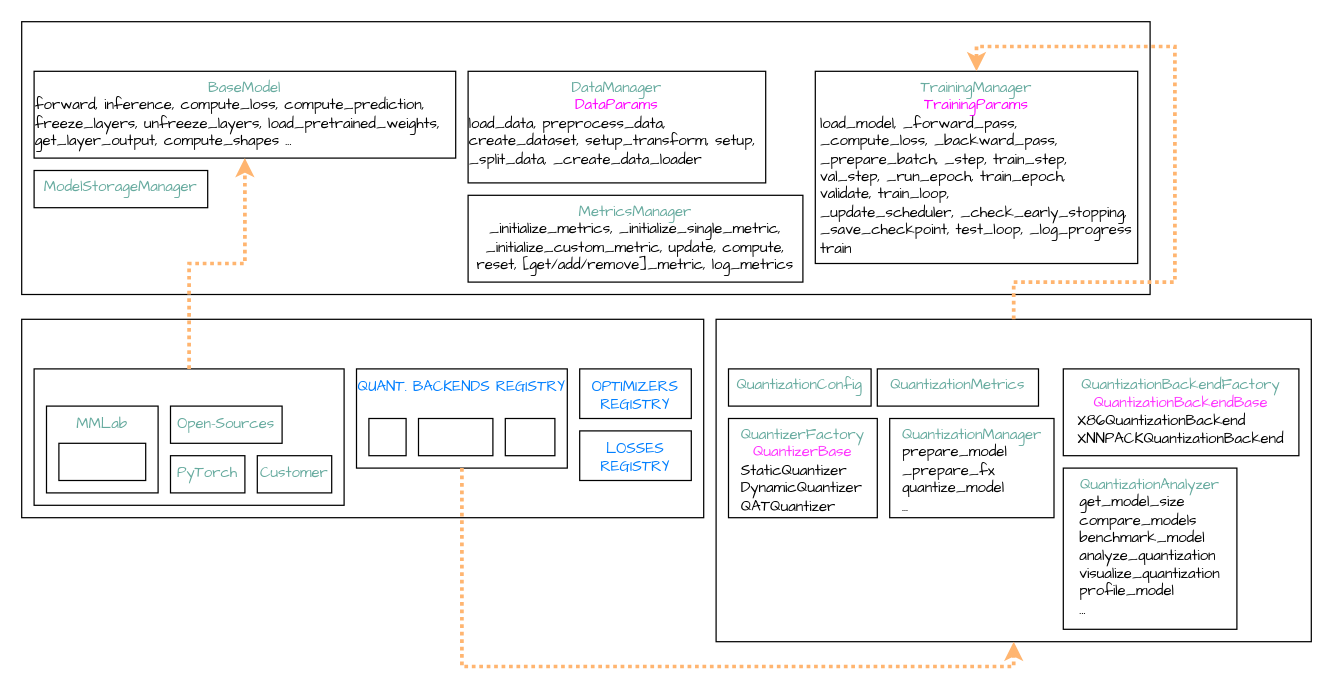
This 1333x699 diagram has some shape labels left out. The box of each missing label's shape, as (x1, y1, x2, y2) in pixels:
MMYOLO: (58, 442, 146, 480)
MODELS REGISTRY: (33, 368, 344, 505)
QUANT. MANAGER: (715, 318, 1311, 642)
RCAR: (504, 417, 555, 456)
REGISTRIES: (20, 318, 704, 518)
TRAINING PIPELINE: (20, 20, 1150, 294)
X86: (368, 417, 406, 456)
XNNPack: (417, 417, 493, 456)
